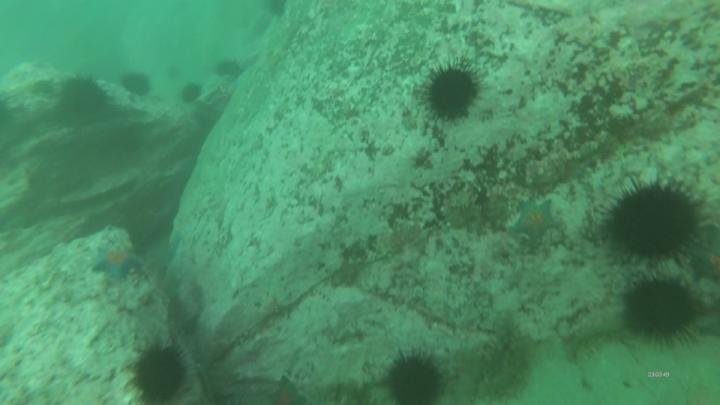echinus: (604, 187, 697, 255), (622, 280, 696, 338), (136, 346, 183, 405), (427, 69, 477, 119), (388, 357, 440, 405), (59, 81, 108, 120), (120, 71, 150, 96), (217, 60, 243, 79), (182, 82, 199, 102)
holothurian: (477, 310, 529, 396), (571, 325, 626, 367)
starfish: (512, 203, 557, 241), (92, 245, 140, 277), (269, 380, 307, 405)
